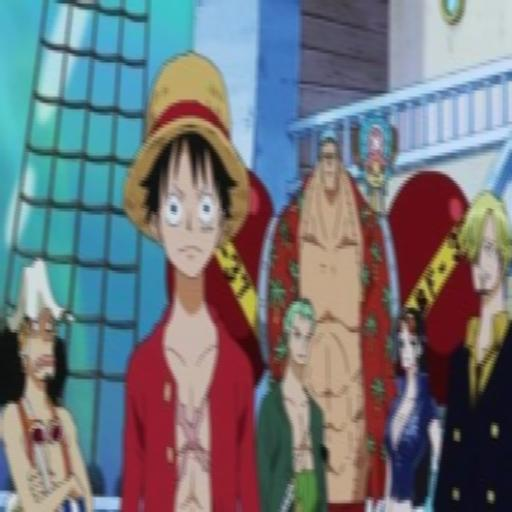Luffy: (112, 56, 258, 280)
NicoRobin: (392, 298, 434, 380)
Usopp: (6, 258, 76, 398)
Zoro: (282, 288, 314, 368)
sanji: (459, 189, 512, 303)
